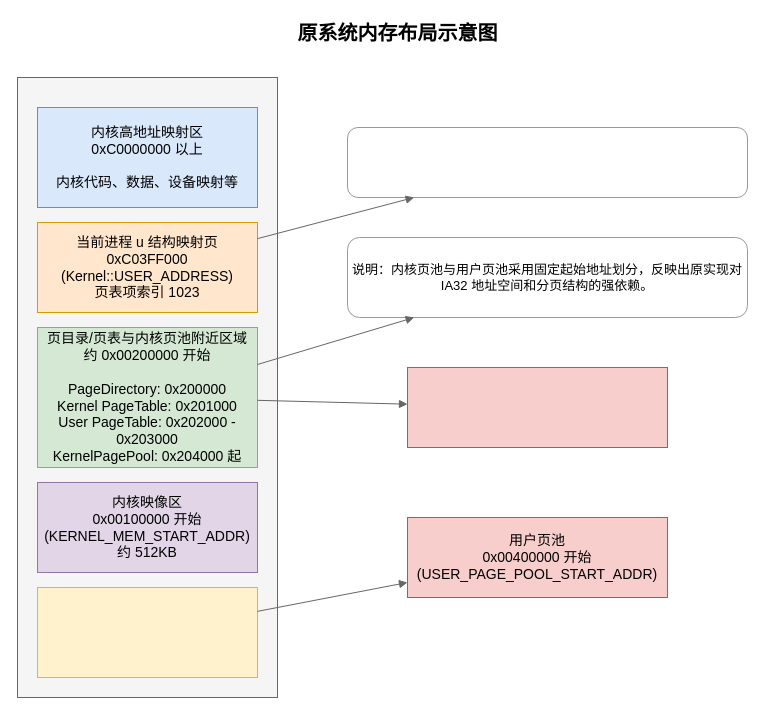
The diagram is 765 pixels wide and 715 high, and some of its shapes have lost their labels. The centre of each missing label's shape, as x and y in pixels:
内核页池 0x00204000 开始 (KERNEL_PAGE_POOL_START_ADDR): the point at 537,407
用户空间 0x00000000 - 0x007FFFFF 8MB, 2 个页表 (USER_SPACE_SIZE) 包含 text / data / stack: the point at 147,632
说明：原系统将内核映射到高地址空间，并通过固定页表项切换当前进程的 u 结构映射。: the point at 547,162
